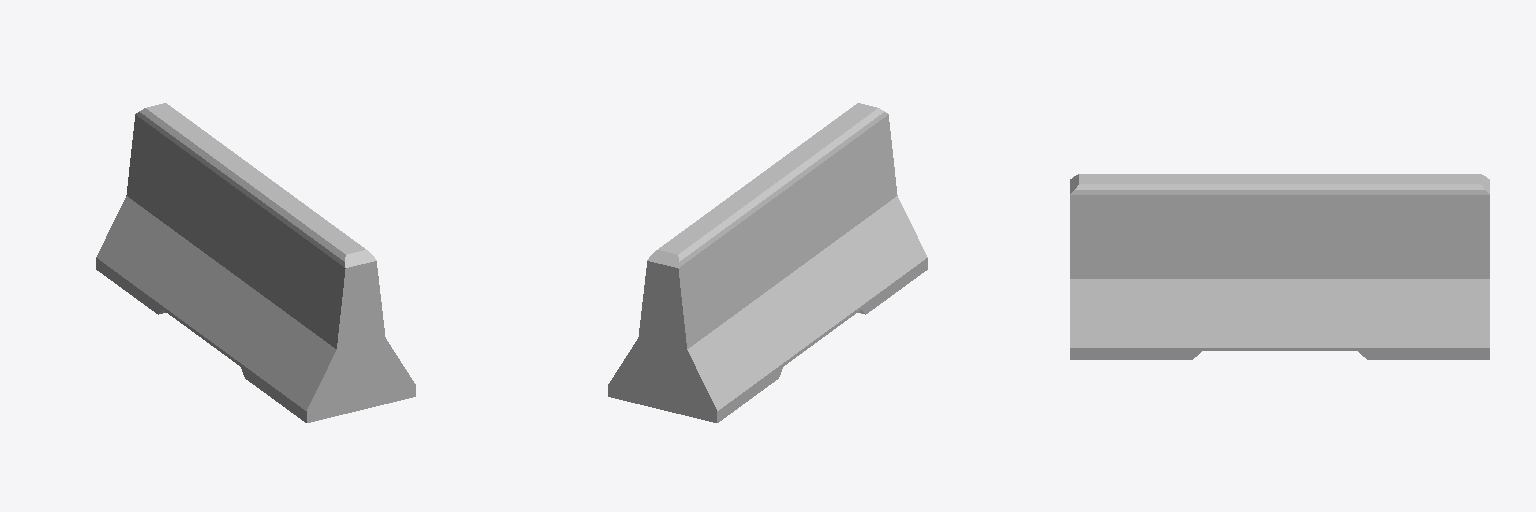
Rendered from betonschutzwand.obj.
3 views of the same model, side by side, from view 1: azimuth 30°, elevation 25°; view 2: azimuth 150°, elevation 25°; view 3: azimuth 270°, elevation 25° (orthographic).
Size of the model in its own units: 0.6 by 0.81 by 2.